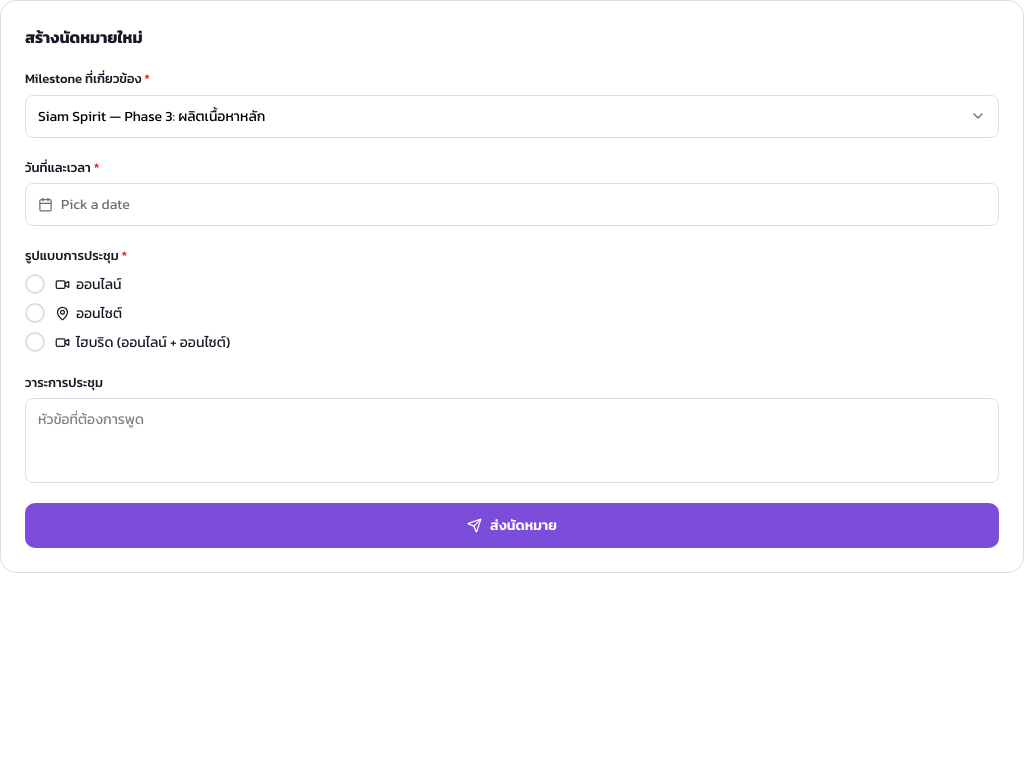
it: meeting milestone default › selects the requested eligible phase and allows a manual change
What coordinates should you click on to do the following:
click the button named "Milestone ที่เกี่ยวข้อง"
I would click on:
 (152, 116)
Its box is x1=25 y1=94 x2=999 y2=138.
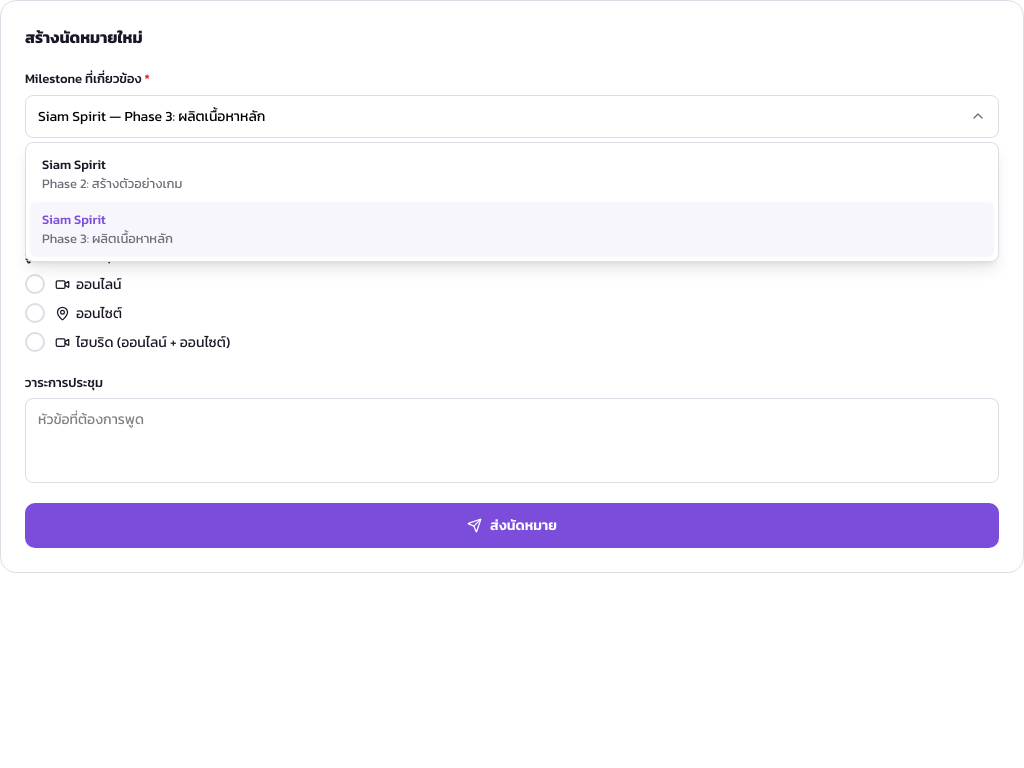
What coordinates should you click on to do the following:
click the option "Siam Spirit Phase 2: สร้างตัวอย่างเกม"
I would click on:
 (74, 164)
Its box is x1=30 y1=146 x2=994 y2=202.
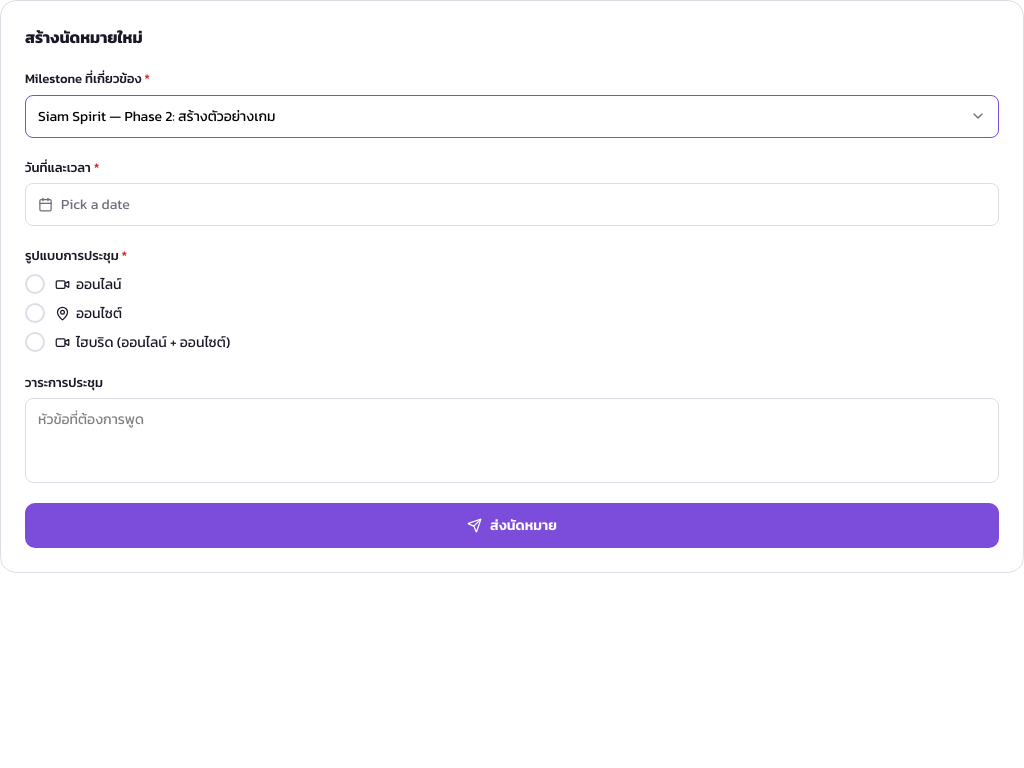
Expected: the button named "Milestone ที่เกี่ยวข้อง" shows "Phase 2: สร้างตัวอย่างเกม", x1=25 y1=94 x2=999 y2=138
